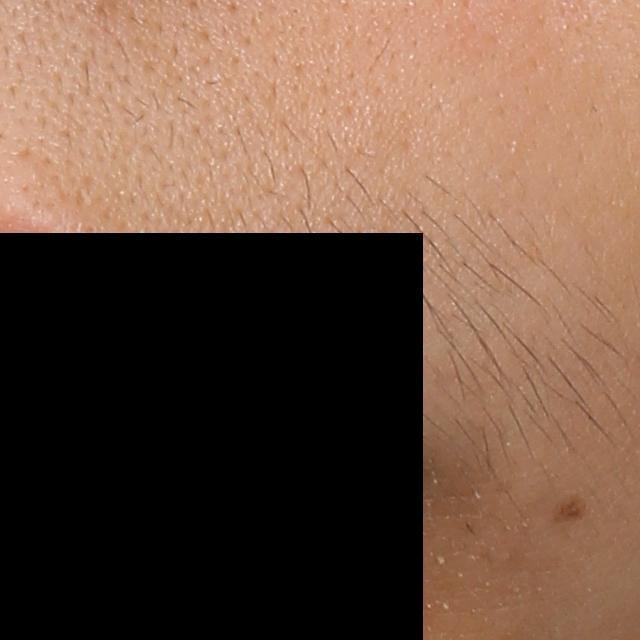nevus: (552, 492, 587, 523)
